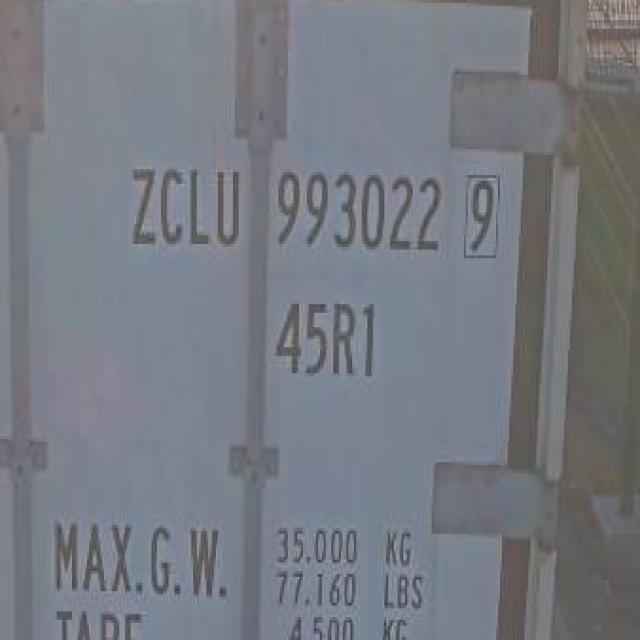dv: (452, 157, 507, 266)
owner: (120, 149, 253, 275)
serial: (264, 157, 444, 262)
size: (272, 284, 380, 383)
